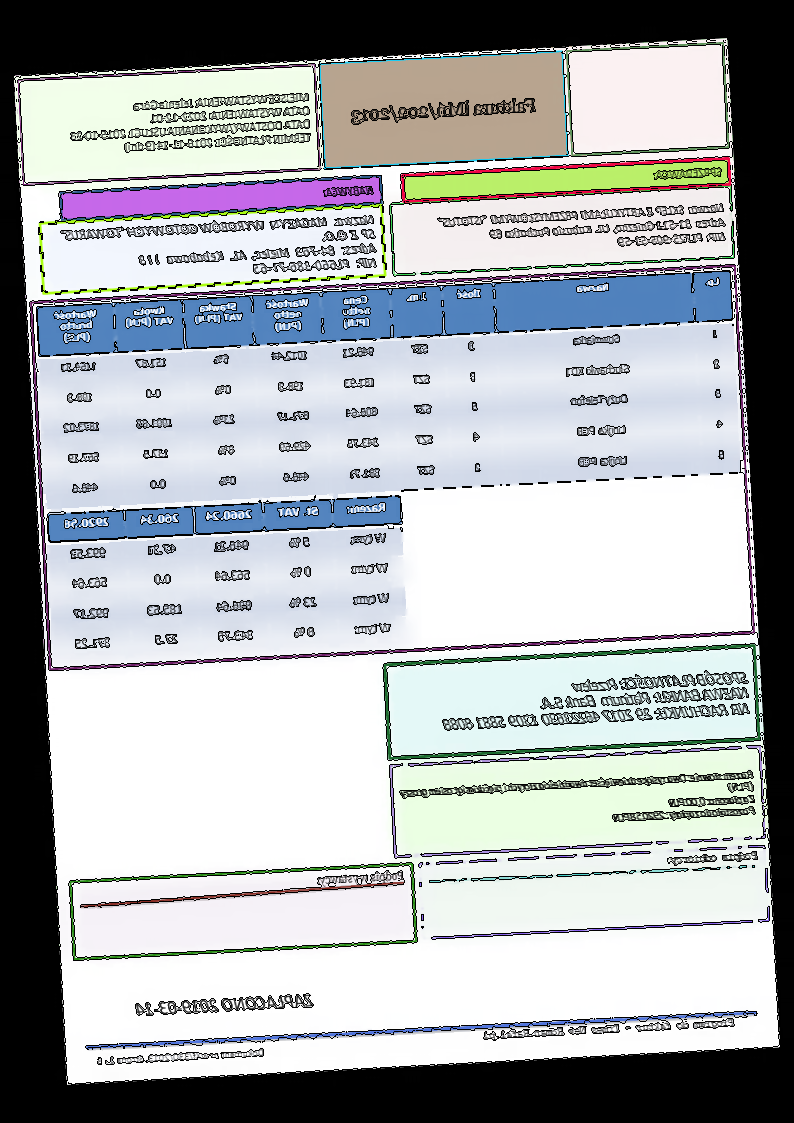Table: (37, 269, 743, 512), (47, 493, 410, 665)
TextBox: (398, 769, 757, 836), (60, 212, 379, 285), (439, 666, 752, 733), (66, 89, 314, 158), (436, 200, 728, 258), (483, 1017, 735, 1043), (350, 94, 540, 128), (134, 990, 316, 1018), (95, 1046, 267, 1067), (316, 868, 405, 890), (666, 849, 761, 868), (653, 165, 724, 182), (322, 183, 375, 200)
